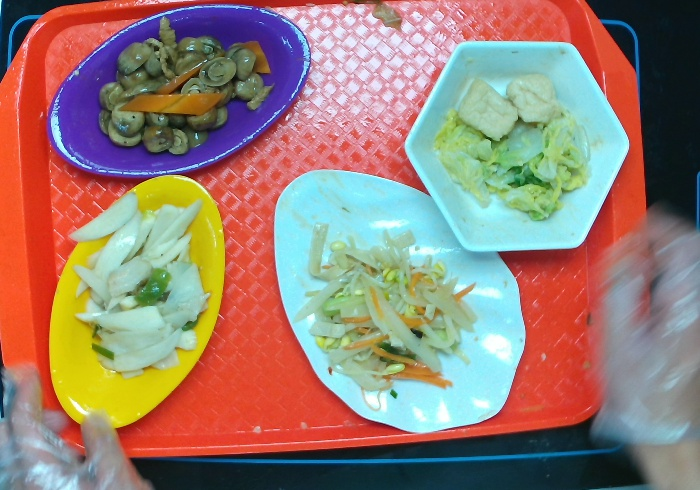RJxy-Bai_Ye_Pan: (267, 164, 529, 436)
RJxy-Fen_Hong_Tuo_Yuan: (41, 1, 317, 180)
RJxy-Huang_Se_Tuo_Yuan: (43, 169, 232, 434)
RJxy-Liu_Jiao_Wan: (393, 33, 630, 257)
